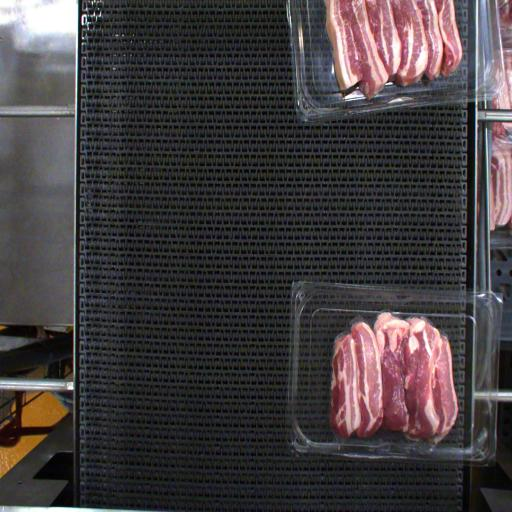unsealed: (332, 301, 452, 353)
